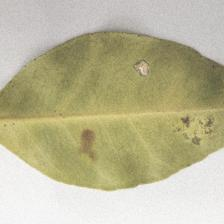black spot: (70, 125, 113, 161)
